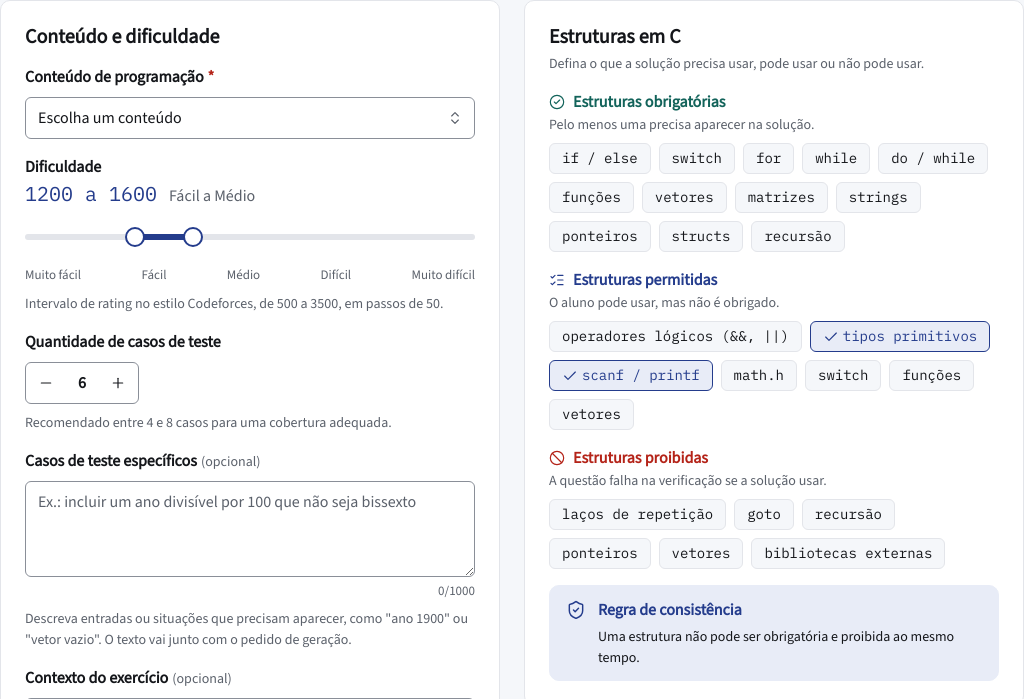
Test: GenerateForm › bloqueia a estrutura oposta para impedir conflito
The width and height of the screenshot is (1024, 699).
What coordinates should you click on to do the following:
click the button "for"
I would click on:
 (769, 158)
Its box is x1=743 y1=143 x2=794 y2=174.
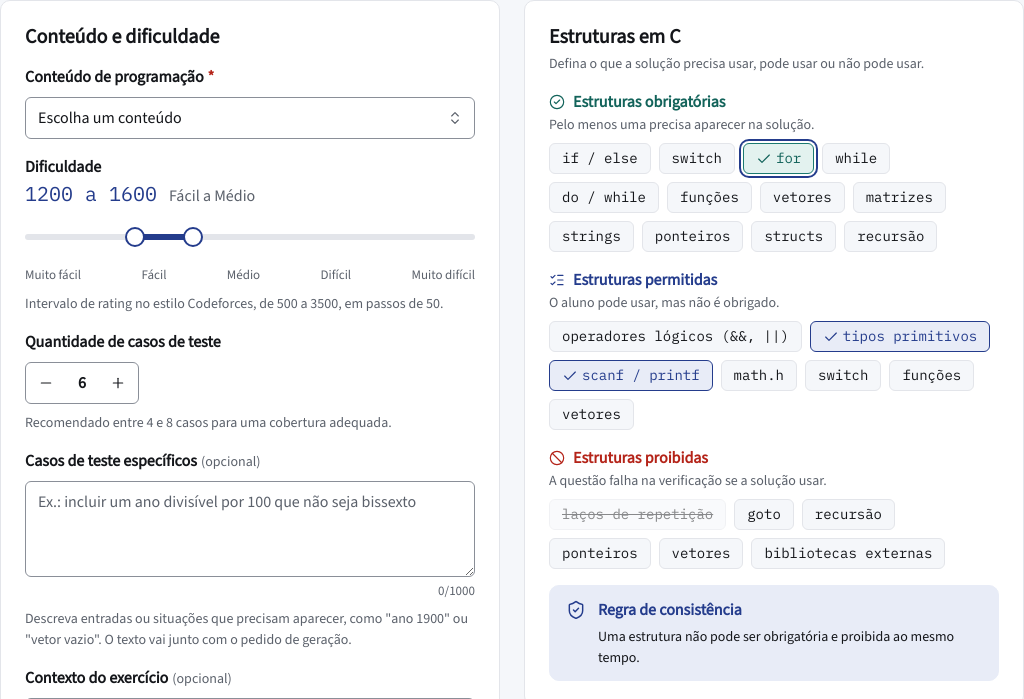
Expected: the button "laços de repetição" is disabled, x1=549 y1=499 x2=726 y2=530
What coordinates should you click on to do the following:
click the button "for"
I would click on:
 (779, 158)
Its box is x1=743 y1=143 x2=814 y2=174.
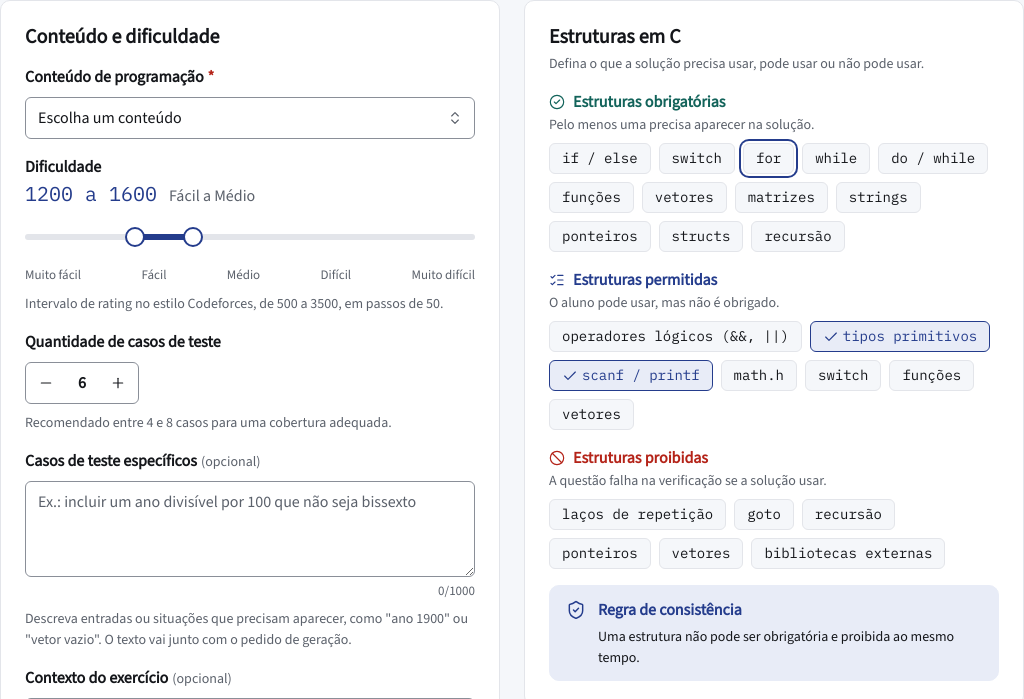
Expected: the button "laços de repetição" is enabled, x1=549 y1=499 x2=726 y2=530
